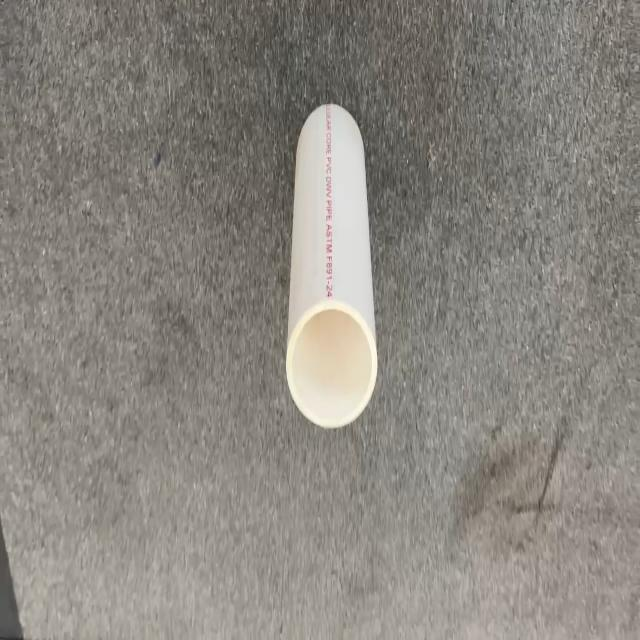coral: (284, 102, 378, 430)
